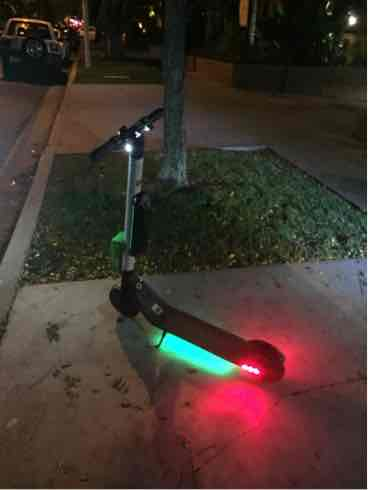scooter: (83, 97, 289, 390)
